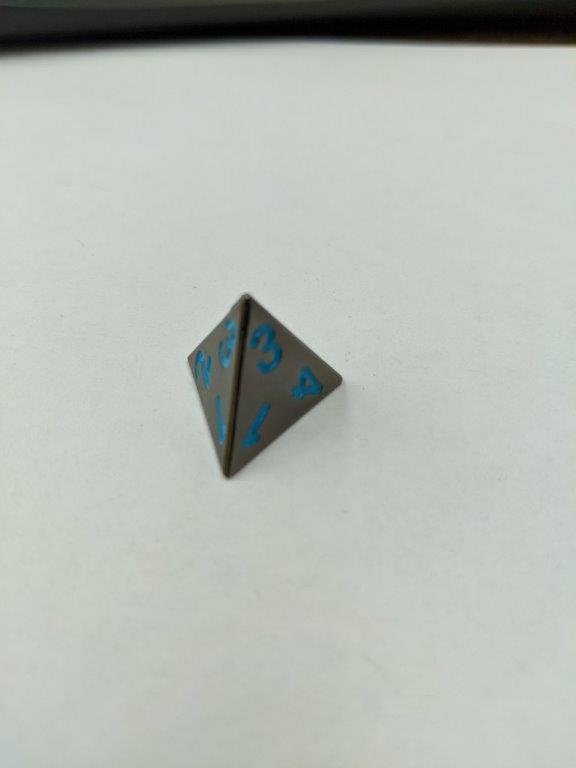d4-3: (182, 292, 348, 482)
